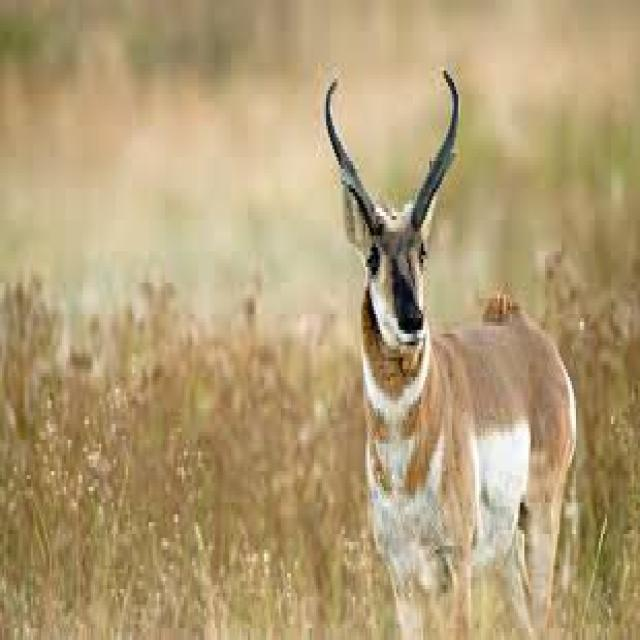Antelope: (322, 68, 580, 620)
